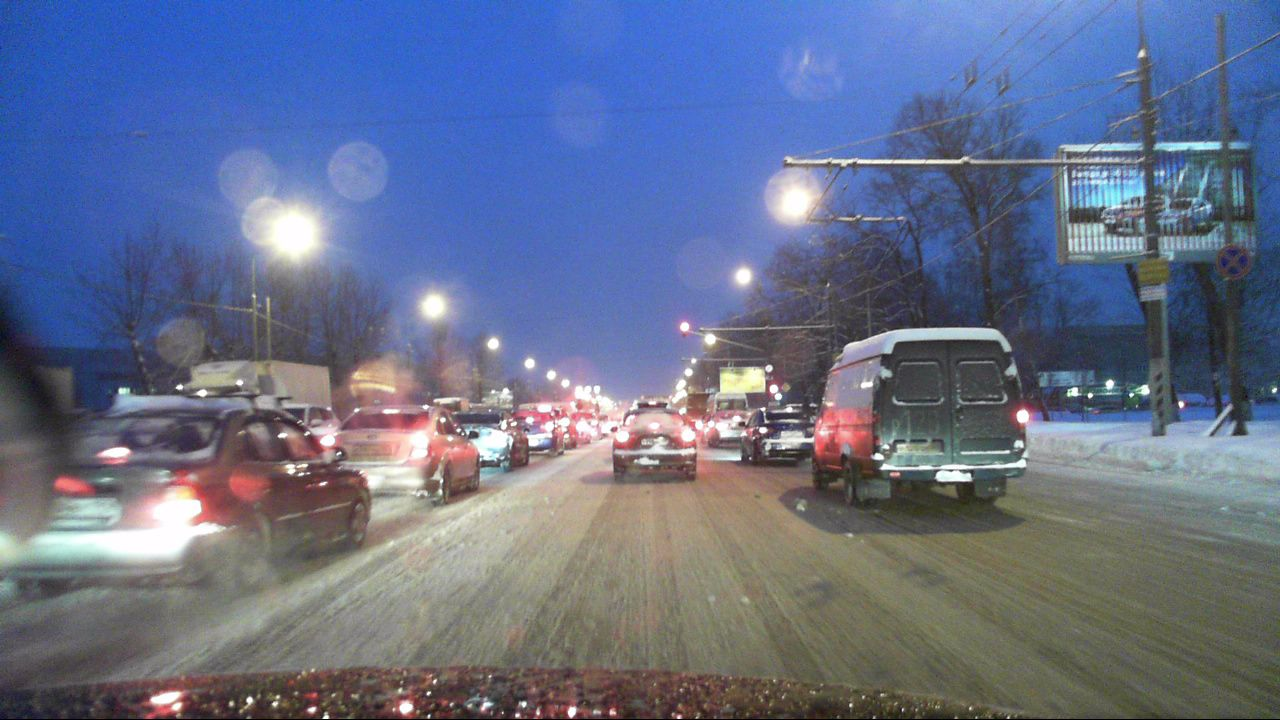No Parking: (1214, 242, 1252, 281)
